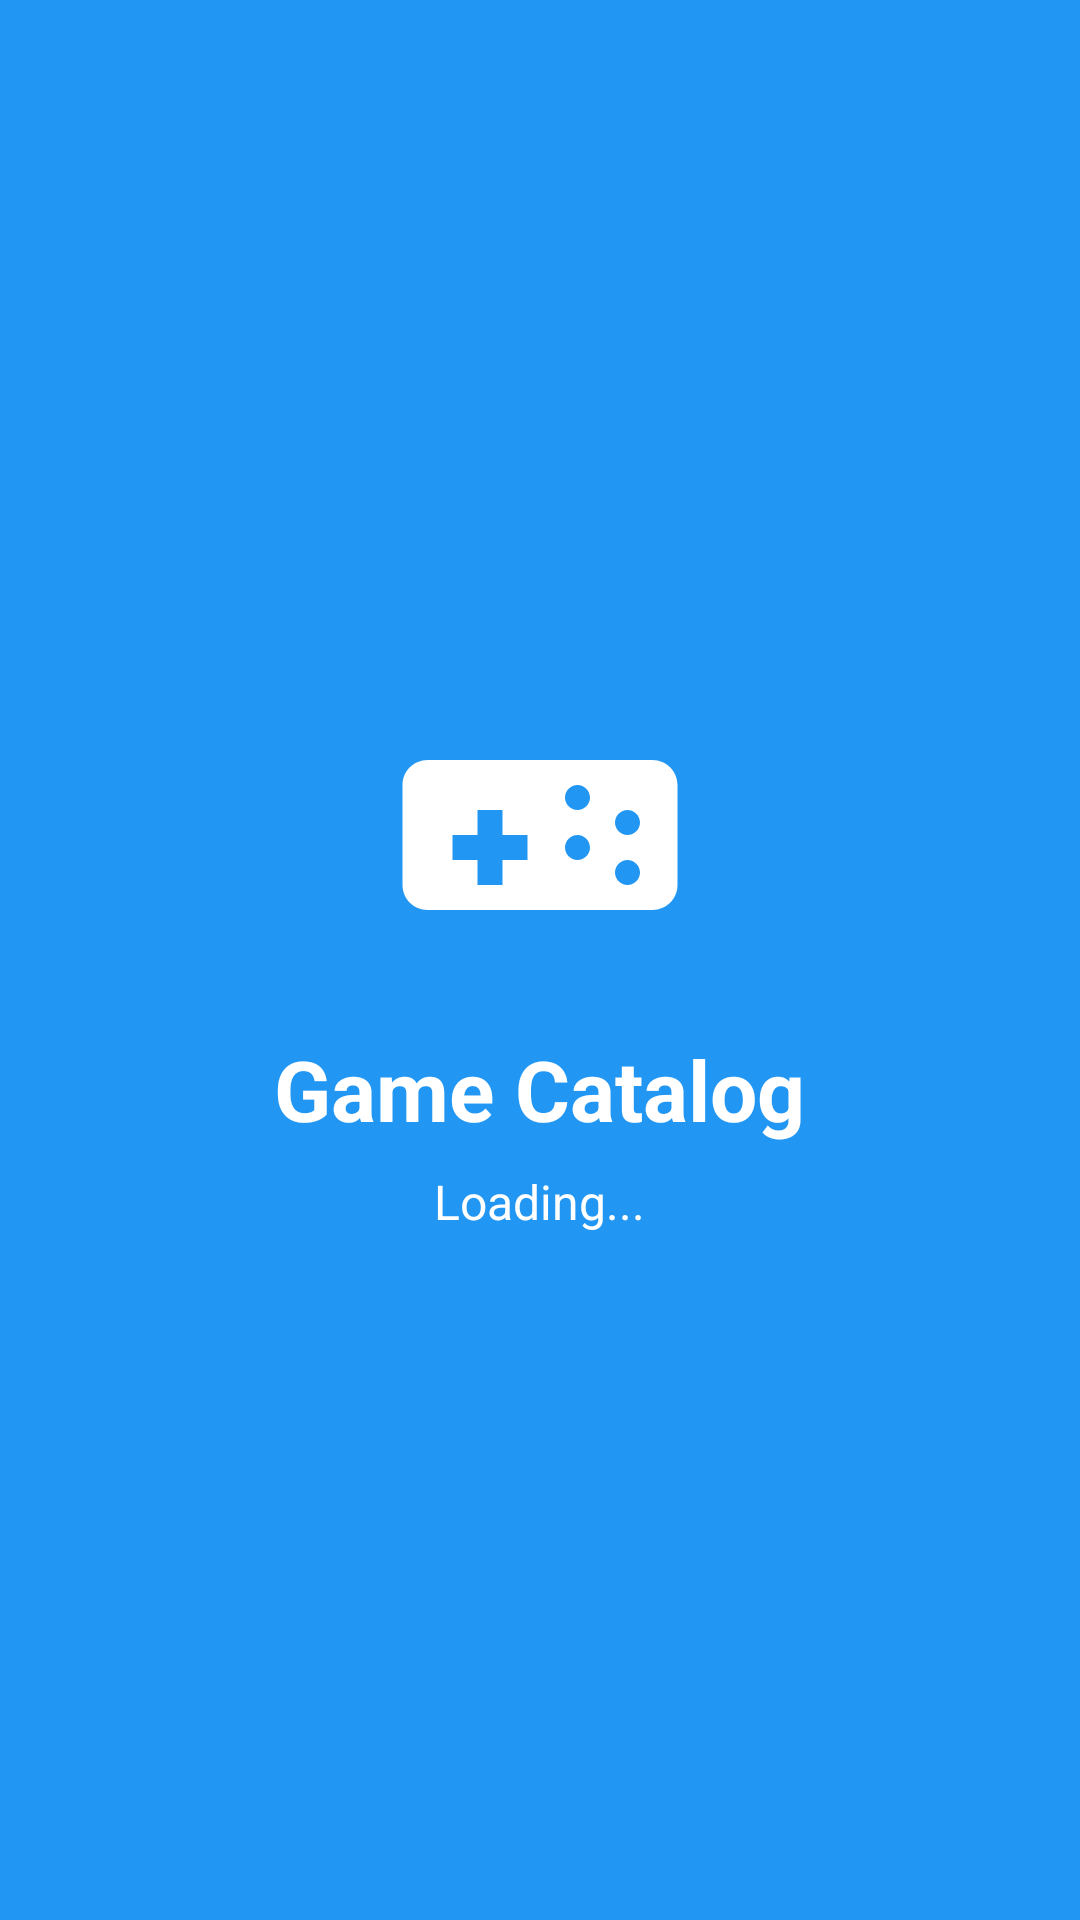

Icons on this 1080 x 1920 Android screen, each with its box as (x1, y1, x2, y2):
game controller: (402, 760, 678, 910)
